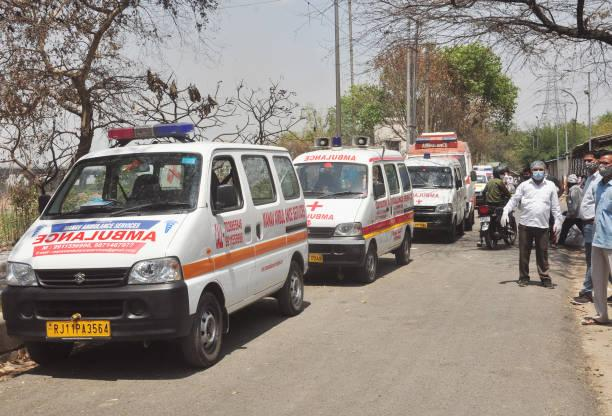AMBULANCE: (210, 219, 308, 260), (33, 226, 173, 253), (105, 118, 199, 149), (363, 195, 410, 237), (303, 193, 333, 233), (412, 182, 443, 217)
